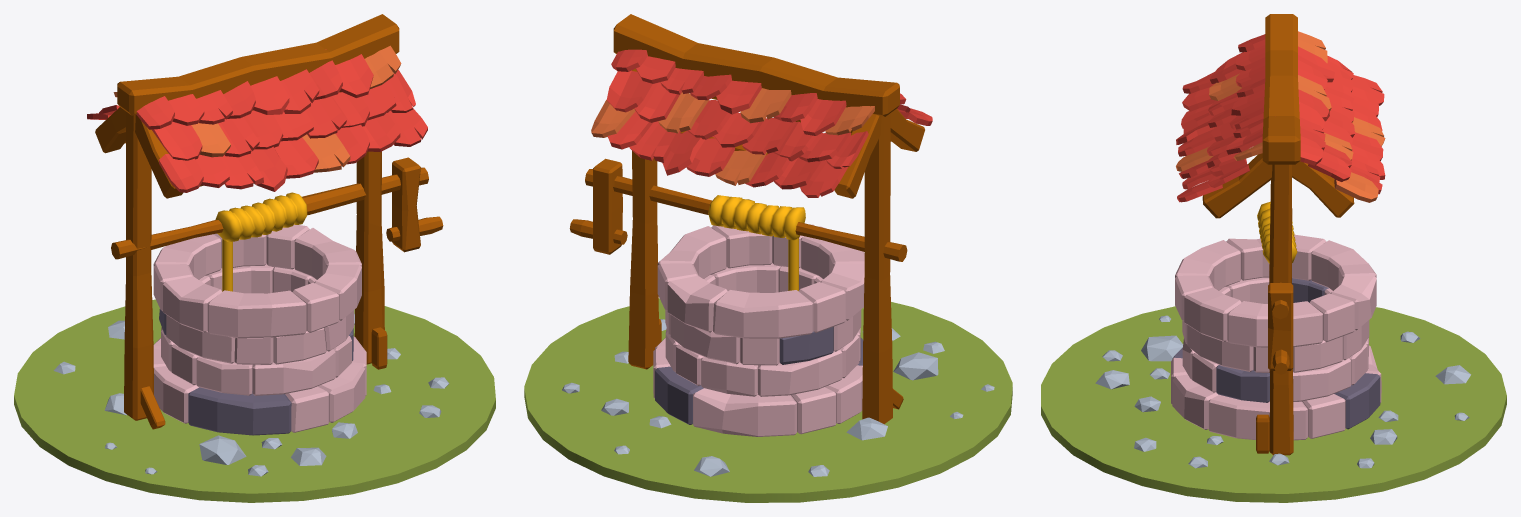
File: uploads_files_5150495_well.fbx
The picture shows the model from 3 angles, left to right: view 1: azimuth 30°, elevation 25°; view 2: azimuth 150°, elevation 25°; view 3: azimuth 270°, elevation 25°; orthographic projection. The views are drawn at different scales.
Visible parts, largest first — view 1: ground, well, wood, roof, rock, rope; view 2: ground, well, wood, roof, rock, rope; view 3: ground, well, roof, wood, rock, rope.
Part boxes in pixels (left/top/right/bottom): ground: left=14, top=299, right=495, bottom=502; well: left=153, top=224, right=366, bottom=435; wood: left=95, top=14, right=443, bottom=429; roof: left=87, top=45, right=427, bottom=192; rock: left=53, top=314, right=449, bottom=476; rope: left=215, top=192, right=307, bottom=291; ground: left=524, top=298, right=1012, bottom=502; well: left=653, top=224, right=864, bottom=436; wood: left=569, top=14, right=924, bottom=424; roof: left=591, top=45, right=932, bottom=197; rock: left=562, top=319, right=994, bottom=476; rope: left=708, top=195, right=805, bottom=290; ground: left=1041, top=306, right=1506, bottom=502; well: left=1171, top=234, right=1381, bottom=440; roof: left=1176, top=31, right=1385, bottom=202; wood: left=1202, top=14, right=1354, bottom=455; rock: left=1095, top=315, right=1470, bottom=468; rope: left=1257, top=201, right=1297, bottom=263.
Size of the model in its own units: 2393 by 1890 by 2390.
